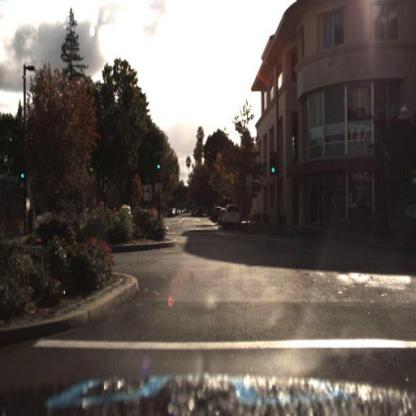car: (221, 207, 242, 236)
pedestrian: (356, 195, 367, 232)
trafficLight: (151, 154, 163, 180), (17, 160, 28, 188), (269, 156, 279, 182)
trafficLight-Green: (156, 151, 164, 176), (19, 165, 24, 188)
